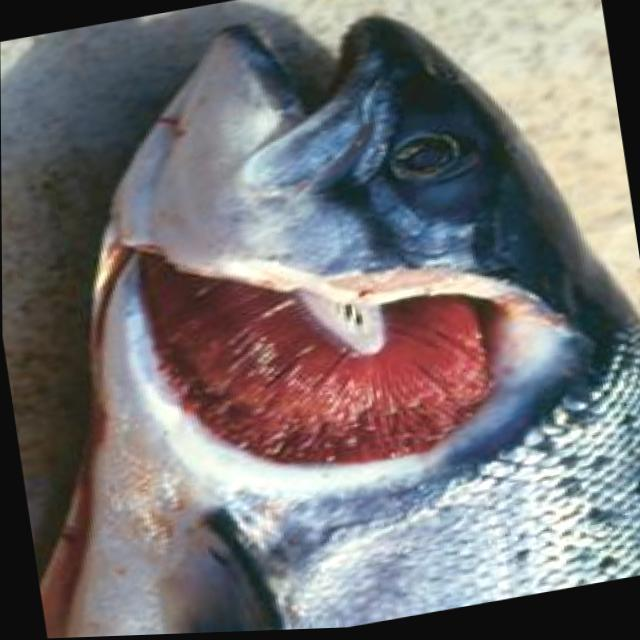Gill Disease: (50, 73, 640, 626)
